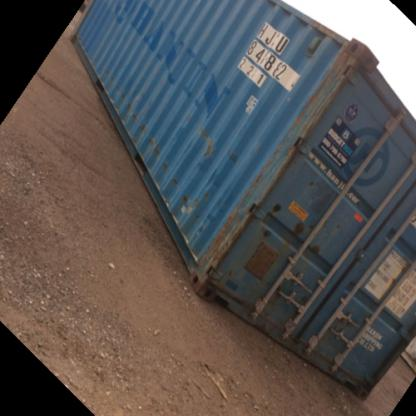Damage: (87, 69, 199, 218), (237, 137, 294, 205), (196, 204, 244, 282), (300, 68, 331, 152), (340, 36, 381, 82), (308, 175, 340, 213), (193, 126, 216, 166), (254, 222, 288, 240), (290, 214, 307, 240), (266, 198, 284, 218), (308, 238, 323, 254)
